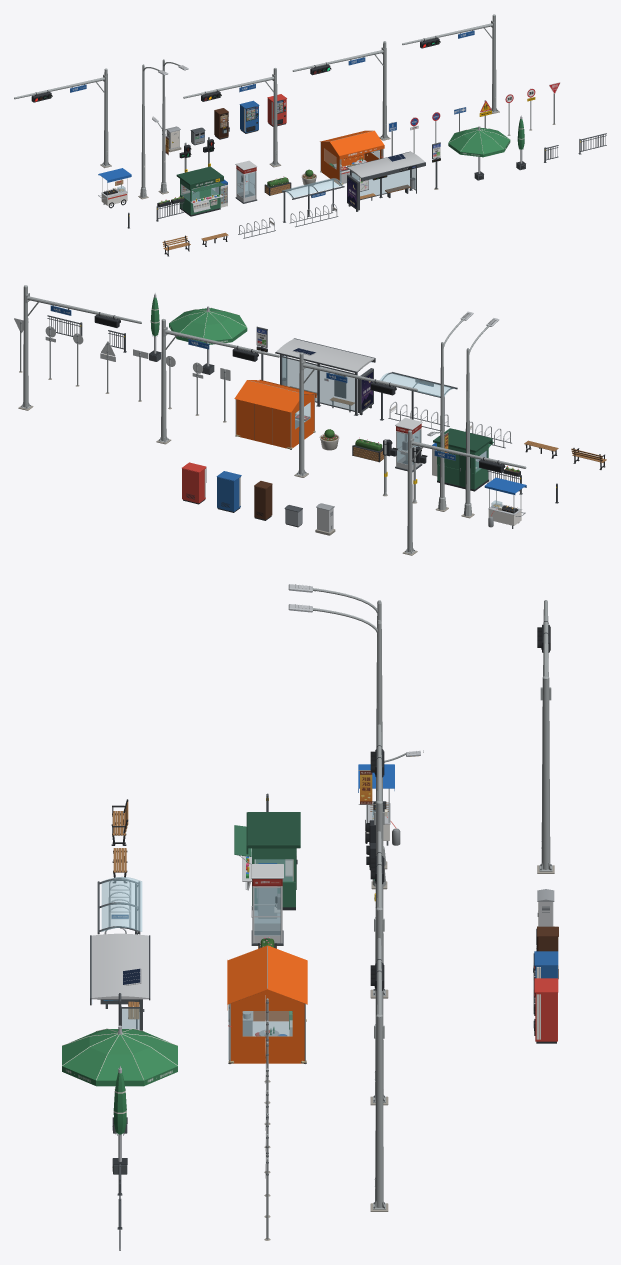
File: SeoulCorner_Street.glb
3 renders of one model, top to bottom at view 1: azimuth 30°, elevation 25°; view 2: azimuth 150°, elevation 25°; view 3: azimuth 270°, elevation 25°, orthographic. The views are drawn at different scales.
Visible parts, largest first — view 1: SC_Str_BusStop_Shelter, SC_Str_Pojangmacha, SC_Str_Newsstand_Kiosk, SC_Str_Crosswalk_Sunshade, SC_Str_Bike_Rack_Covered, SC_Str_TrafficLight_Vehicle_Amber, SC_Str_TrafficLight_Vehicle_Green, SC_Str_TrafficLight_Vehicle_Red, SC_Str_TrafficLight_Vehicle_LeftTurn, SC_Str_Phone_Booth, SC_Str_Street_Cart_Bungeoppang, SC_Str_Streetlight_Road_Double (+6 smaller); view 2: SC_Str_BusStop_Shelter, SC_Str_Pojangmacha, SC_Str_Newsstand_Kiosk, SC_Str_Crosswalk_Sunshade, SC_Str_TrafficLight_Vehicle_LeftTurn, SC_Str_TrafficLight_Vehicle_Red, SC_Str_TrafficLight_Vehicle_Green, SC_Str_TrafficLight_Vehicle_Amber, SC_Str_Bike_Rack_Covered, SC_Str_Street_Cart_Bungeoppang, SC_Str_Streetlight_Road_Double, SC_Str_Streetlight_Road (+7 smaller); view 3: SC_Str_Pojangmacha, SC_Str_Crosswalk_Sunshade, SC_Str_BusStop_Shelter, SC_Str_Newsstand_Kiosk, SC_Str_Phone_Booth, SC_Str_TrafficLight_Vehicle_LeftTurn, SC_Str_TrafficLight_Vehicle_Red, SC_Str_Bike_Rack_Covered, SC_Str_Streetlight_Road_Double, SC_Str_Vending_Machine_Drinks_Red, SC_Str_TrafficLight_Vehicle_Green, SC_Str_TrafficLight_Vehicle_Amber (+2 smaller).
Part boxes in pixels (bbox=[...]): SC_Str_BusStop_Shelter: bbox=[346, 151, 425, 211]; SC_Str_Pojangmacha: bbox=[320, 130, 384, 185]; SC_Str_Newsstand_Kiosk: bbox=[176, 166, 227, 216]; SC_Str_Crosswalk_Sunshade: bbox=[448, 126, 510, 180]; SC_Str_Bike_Rack_Covered: bbox=[282, 178, 344, 227]; SC_Str_TrafficLight_Vehicle_Amber: bbox=[183, 68, 281, 167]; SC_Str_TrafficLight_Vehicle_Green: bbox=[292, 41, 390, 140]; SC_Str_TrafficLight_Vehicle_Red: bbox=[14, 68, 111, 168]; SC_Str_TrafficLight_Vehicle_LeftTurn: bbox=[402, 14, 499, 113]; SC_Str_Phone_Booth: bbox=[235, 160, 257, 203]; SC_Str_Street_Cart_Bungeoppang: bbox=[98, 168, 131, 208]; SC_Str_Streetlight_Road_Double: bbox=[152, 59, 188, 194]; SC_Str_BusStop_Shelter: bbox=[275, 338, 375, 415]; SC_Str_Pojangmacha: bbox=[234, 379, 316, 449]; SC_Str_Newsstand_Kiosk: bbox=[432, 428, 493, 491]; SC_Str_Crosswalk_Sunshade: bbox=[169, 306, 247, 374]; SC_Str_TrafficLight_Vehicle_LeftTurn: bbox=[18, 285, 141, 410]; SC_Str_TrafficLight_Vehicle_Red: bbox=[402, 430, 526, 555]; SC_Str_TrafficLight_Vehicle_Green: bbox=[156, 319, 279, 444]; SC_Str_TrafficLight_Vehicle_Amber: bbox=[294, 352, 417, 477]; SC_Str_Bike_Rack_Covered: bbox=[380, 372, 457, 430]; SC_Str_Street_Cart_Bungeoppang: bbox=[484, 477, 526, 528]; SC_Str_Streetlight_Road_Double: bbox=[427, 311, 473, 511]; SC_Str_Streetlight_Road: bbox=[461, 318, 499, 518]; SC_Str_Pojangmacha: bbox=[227, 945, 307, 1063]; SC_Str_Crosswalk_Sunshade: bbox=[62, 1025, 177, 1133]; SC_Str_BusStop_Shelter: bbox=[90, 933, 150, 1030]; SC_Str_Newsstand_Kiosk: bbox=[234, 812, 300, 918]; SC_Str_Phone_Booth: bbox=[251, 864, 283, 945]; SC_Str_TrafficLight_Vehicle_LeftTurn: bbox=[370, 938, 388, 1211]; SC_Str_TrafficLight_Vehicle_Red: bbox=[537, 600, 554, 873]; SC_Str_Bike_Rack_Covered: bbox=[97, 876, 142, 934]; SC_Str_Streetlight_Road_Double: bbox=[288, 604, 423, 889]; SC_Str_Vending_Machine_Drinks_Red: bbox=[533, 978, 558, 1043]; SC_Str_TrafficLight_Vehicle_Green: bbox=[370, 831, 388, 1105]; SC_Str_TrafficLight_Vehicle_Amber: bbox=[370, 724, 388, 998].
Size of the model in its own units: 35.82 by 9.87 by 15.85.
5 materials, 5 textured.
